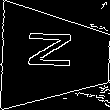N_E: (28, 36, 83, 78)
